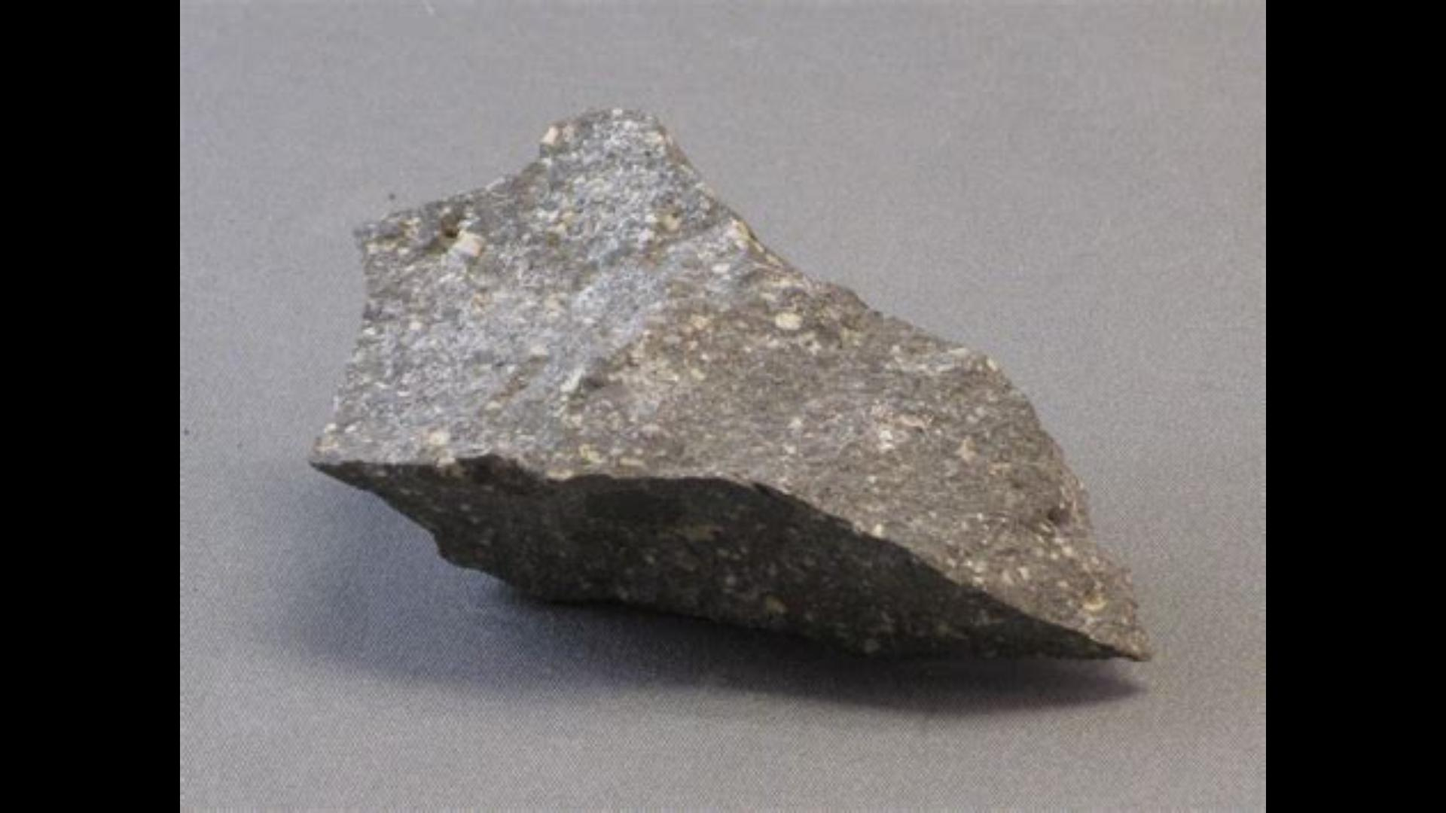rock: (313, 110, 1145, 655)
